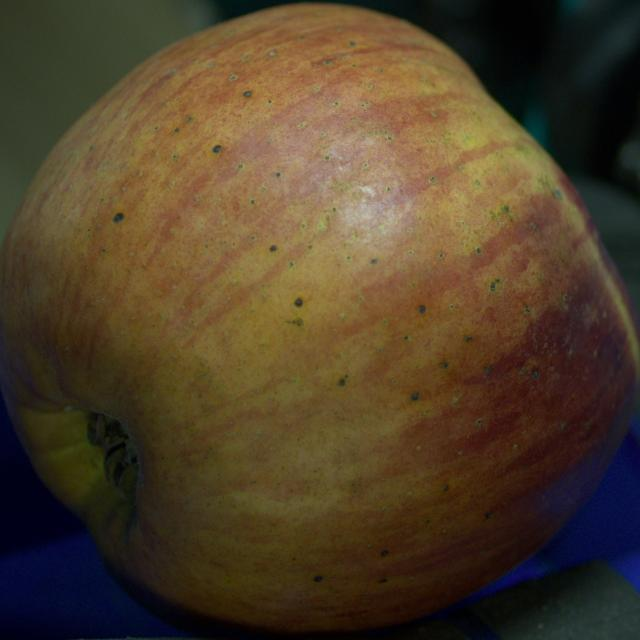apple: (0, 4, 639, 635)
pest: (112, 212, 124, 222), (294, 298, 302, 306), (212, 145, 221, 152), (412, 392, 419, 400), (419, 305, 426, 312), (485, 511, 492, 518), (314, 576, 322, 582), (381, 550, 389, 556), (244, 91, 251, 96)
